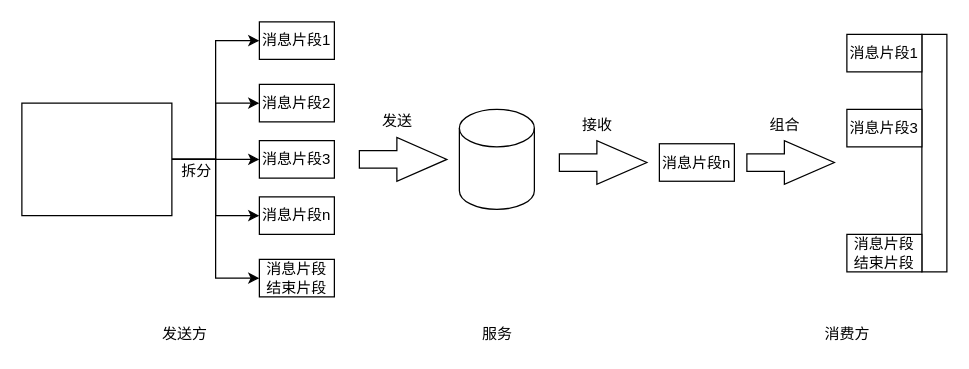
Some shapes in this 969 by 369 pixel diagram are drawn without their labels. Each missing label, with the centre of its shape:
"IM服务" belongs at (x=496, y=158).
"大于6kb的消息体" belongs at (x=96, y=159).
"完整消息体" belongs at (x=934, y=152).
